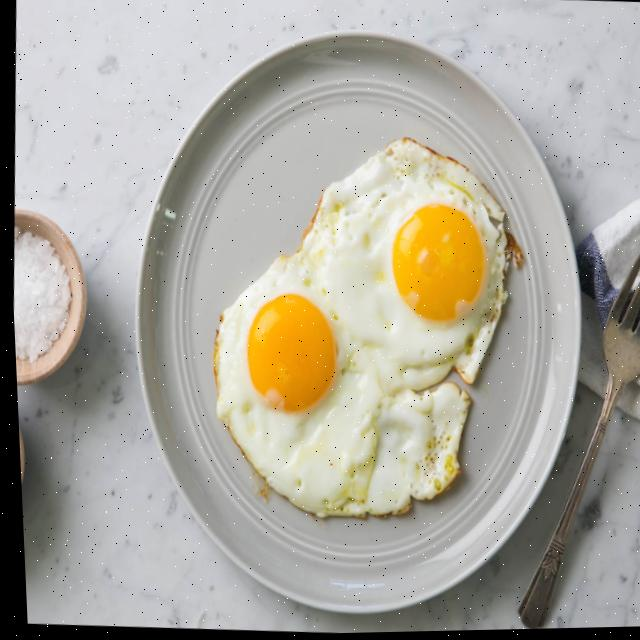Egg: (210, 140, 506, 518)
